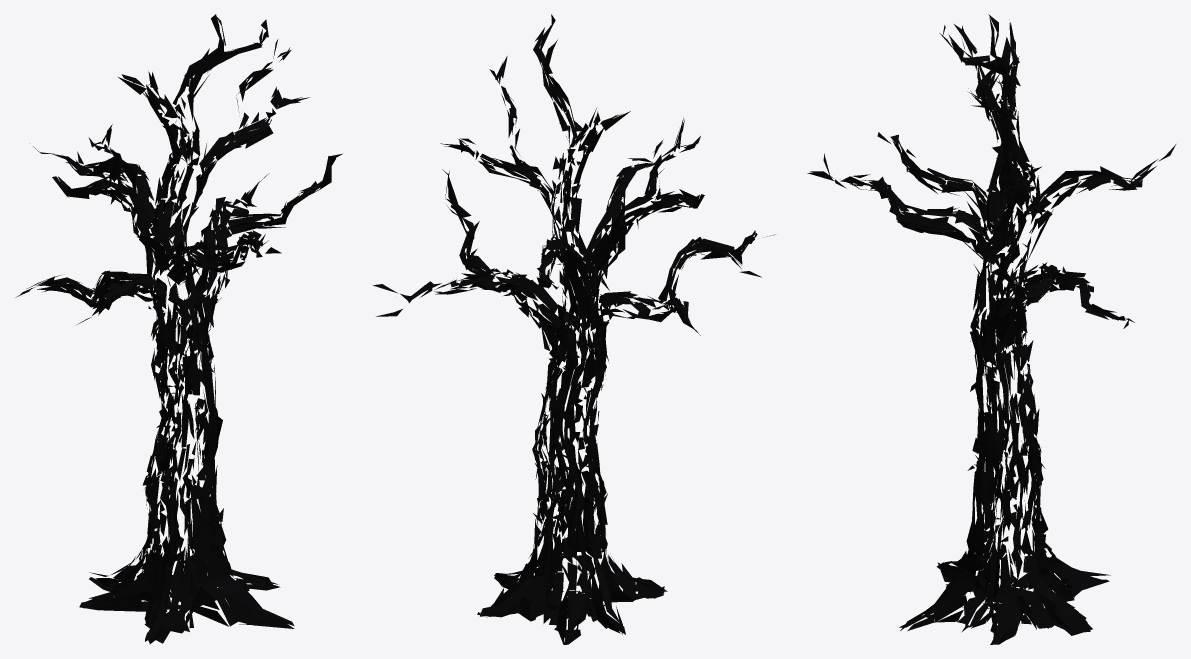
Rendered from dead_tree_lod1.glb.
The picture shows the model from 3 angles, left to right: view 1: azimuth 30°, elevation 25°; view 2: azimuth 150°, elevation 25°; view 3: azimuth 270°, elevation 25°; orthographic projection. The views are drawn at different scales.
Visible parts, largest first — view 1: dead_tree_body; view 2: dead_tree_body; view 3: dead_tree_body.
Part boxes in pixels (x1,y1,x2,y2): dead_tree_body: (15, 14, 342, 644); dead_tree_body: (373, 14, 775, 644); dead_tree_body: (807, 14, 1176, 644).
Bounding box in the file's own units: 5.19 × 9.66 × 5.32.
Materials: 1 (1 with a texture image).
